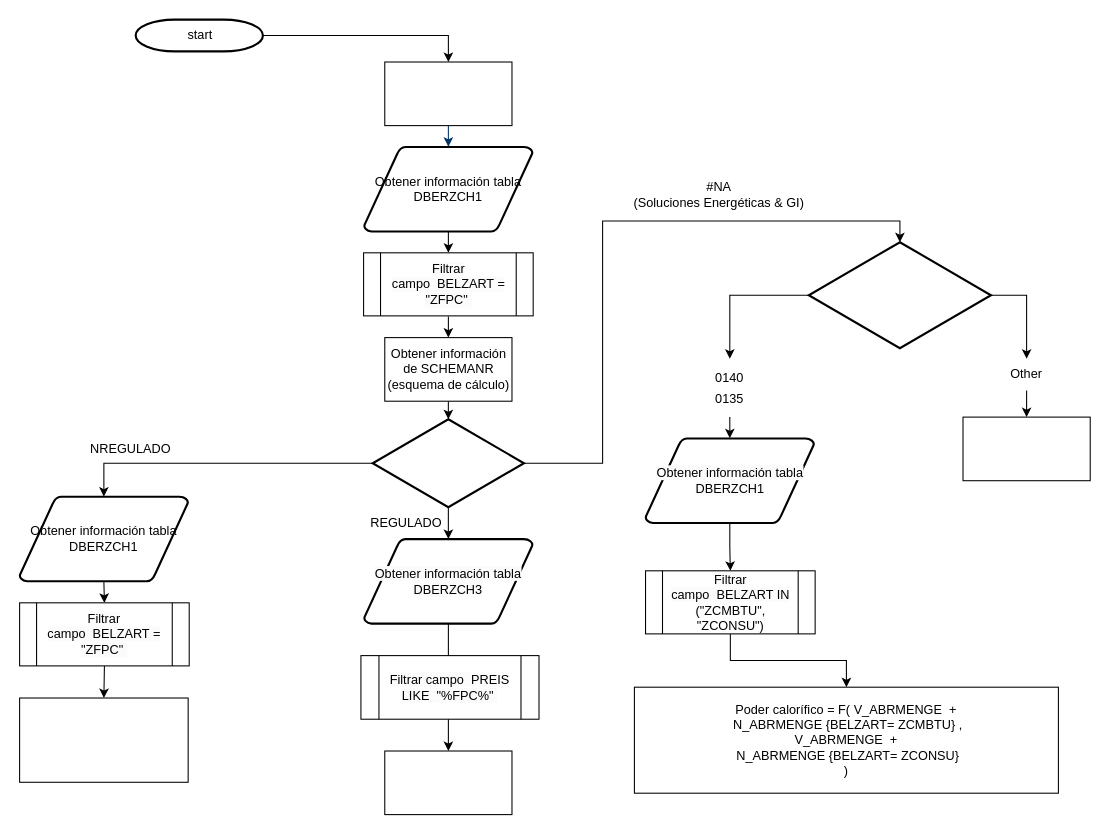
This 1109x833 diagram has some shape labels left out. The shapes that lost their labels are listed below. From the top down, each one's centre as x and y in pixels, then its label:
[448,93]: Obtención de documento de cálculo (BELNR)
[899,295]: Case: Clase de cuenta
[447,463]: CASE SCHEMANR
[1026,448]: Asignar PoderCalorífico = 1
[103,739]: Poder_calorifico = V_ABRMENGE + N_ABRMENGE
[448,782]: Poder calorífico = PREISBTR
